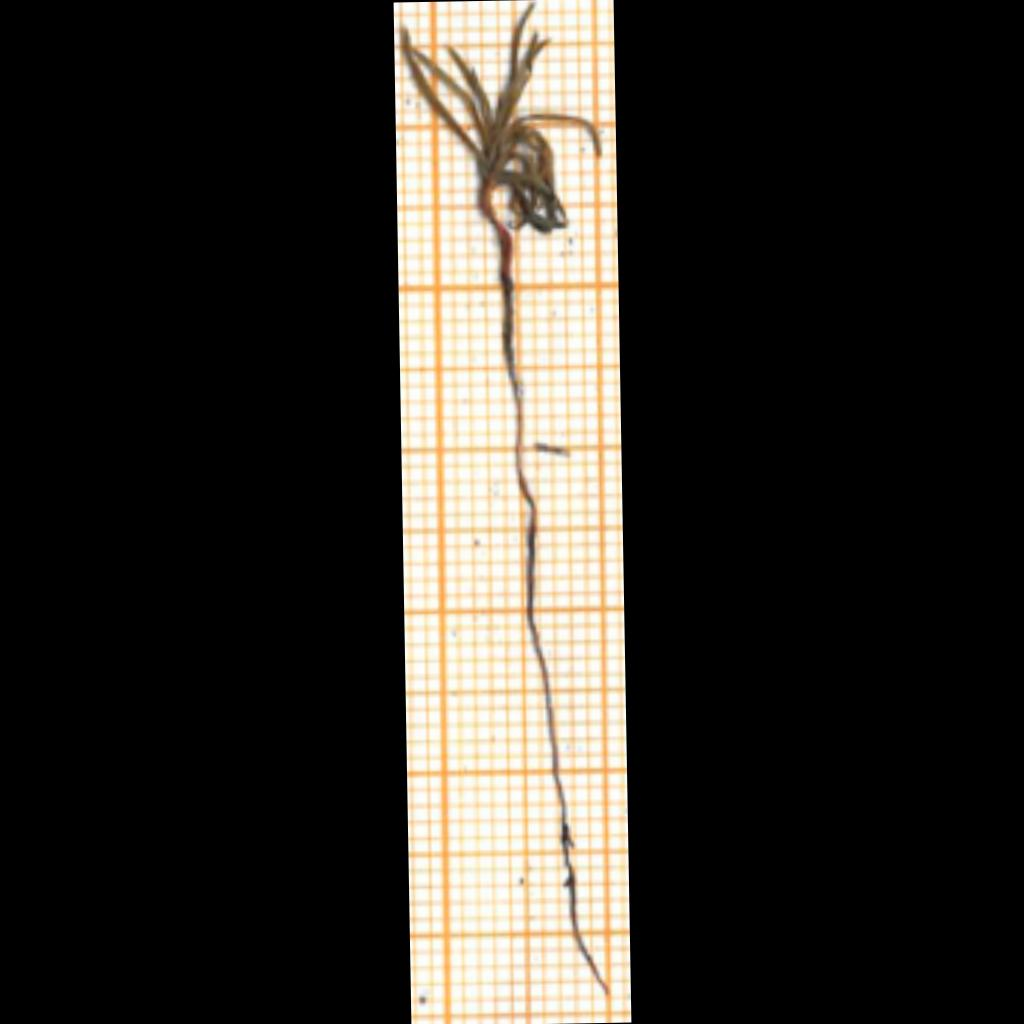flowerPinus: (403, 6, 601, 231)
rootPinus: (516, 447, 608, 994)
stemPinus: (480, 182, 520, 437)
